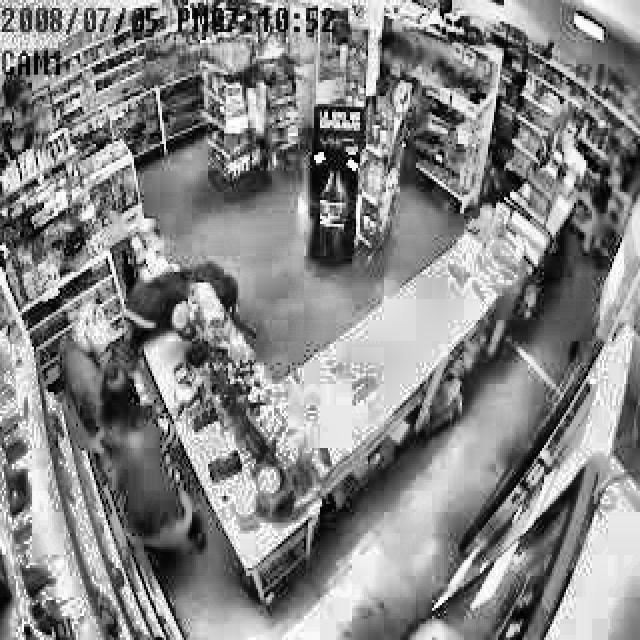robbery: (90, 255, 265, 556)
